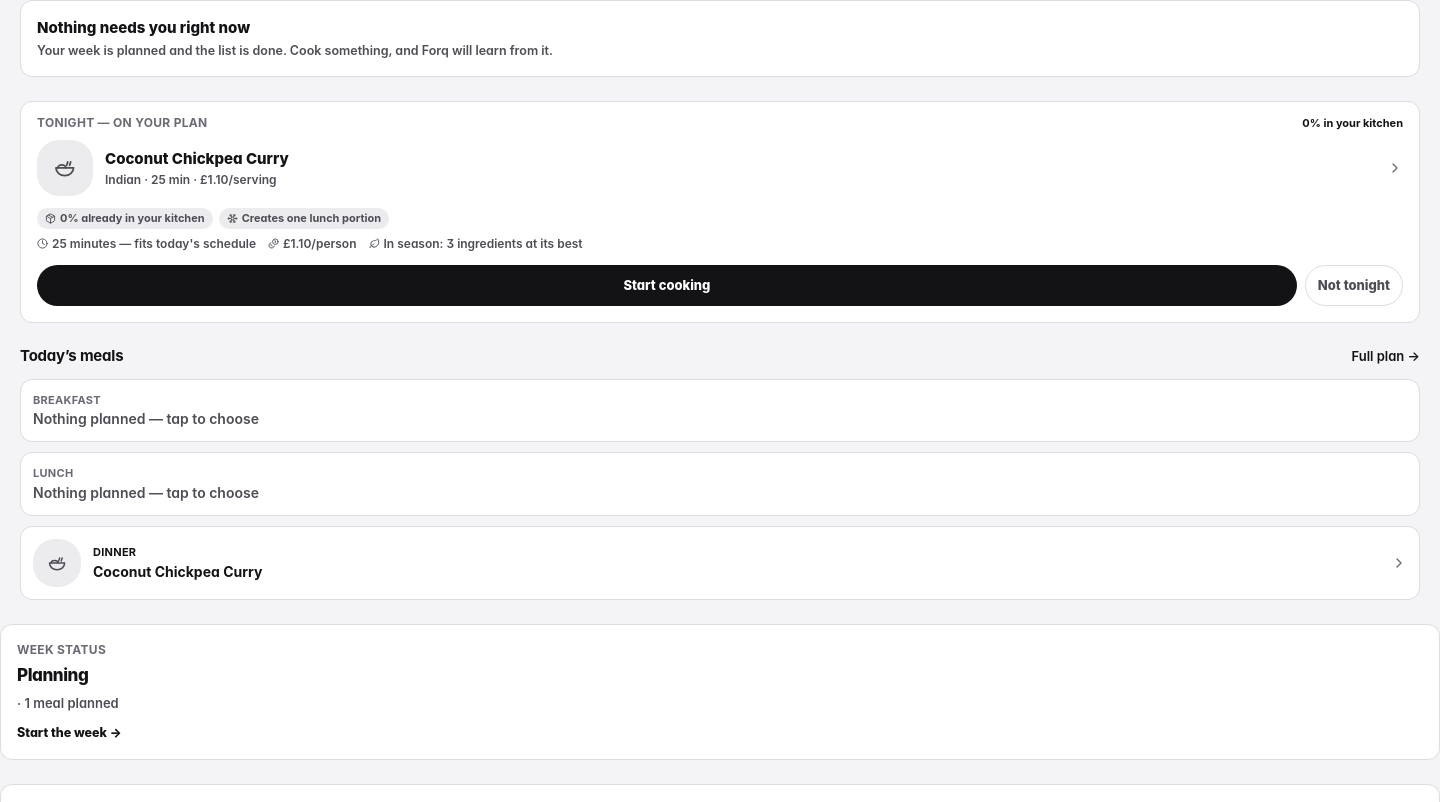
Test: the tonight card follows the plan › Not tonight on the planned dish falls back to suggestions
Click the button "Not tonight" at (1354, 286), box [1305, 265, 1403, 306]
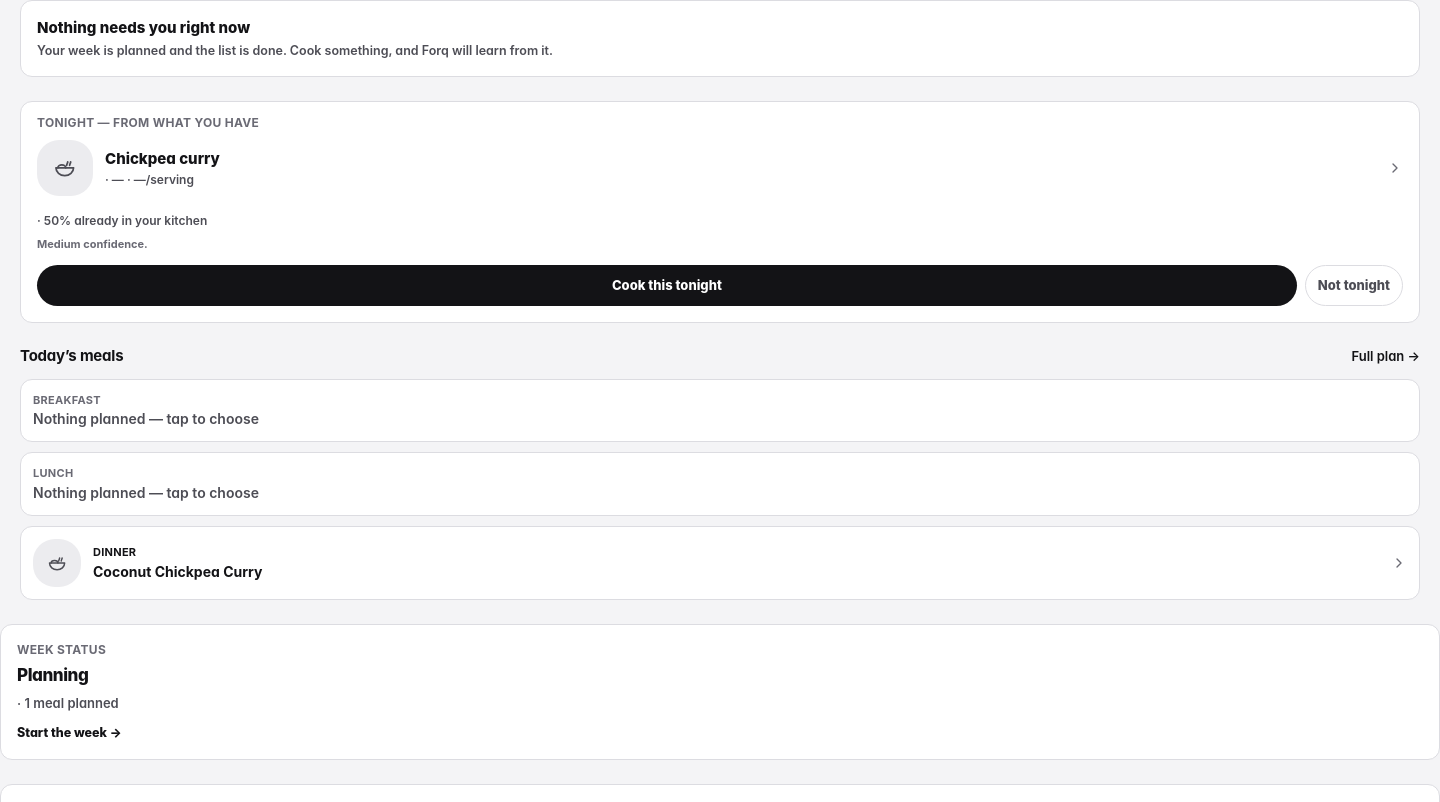
Expected: the element named "Tonight's meal" shows "Chickpea curry", [105, 149, 220, 168]
Now the element named "Tonight's meal" shows "Tonight — from what you have", box [37, 115, 259, 130]
